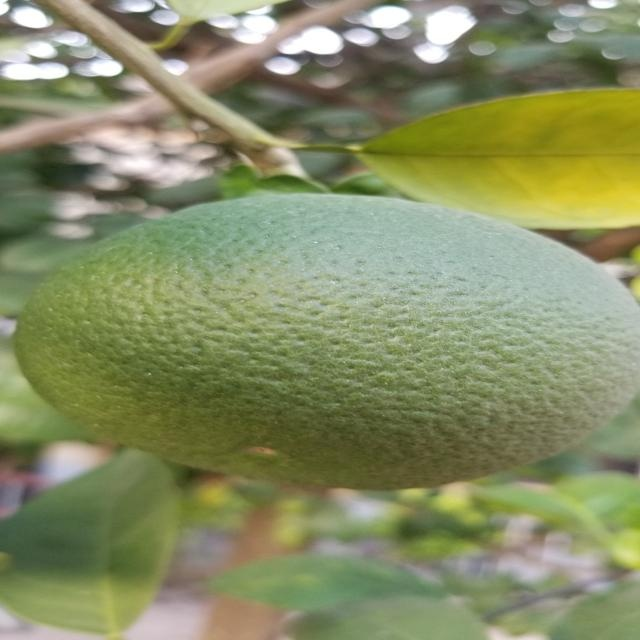agrume: (3, 190, 640, 494)
